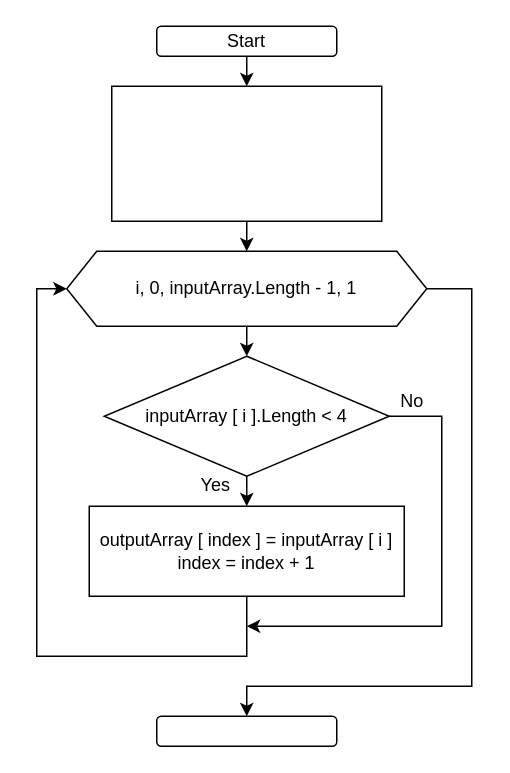
This 510x773 diagram has some shape labels left out. Each missing label, with the centre of its shape:
"End" belongs at [246,730].
"index = 0 inputArray [ ] arrayLength outputArray [ arrayLength ]" belongs at [246,153].
